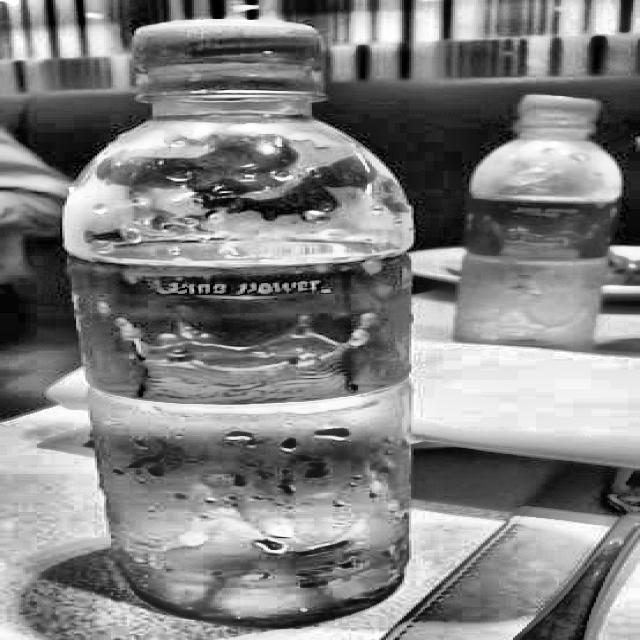waterbottle: (44, 8, 446, 639), (440, 71, 640, 408)
